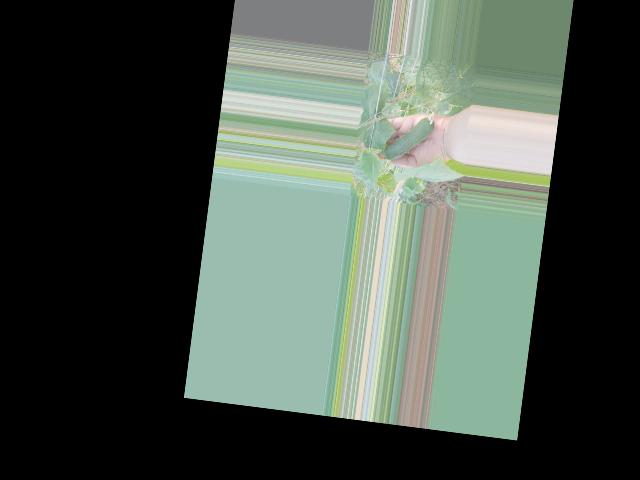cucumber: (383, 105, 436, 164)
